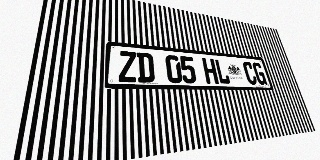0: (165, 55, 183, 83)
5: (179, 56, 197, 84)
C: (242, 61, 258, 85)
D: (137, 52, 155, 83)
G: (252, 62, 268, 85)
H: (202, 58, 219, 84)
L: (214, 59, 231, 84)
Z: (118, 51, 137, 82)
